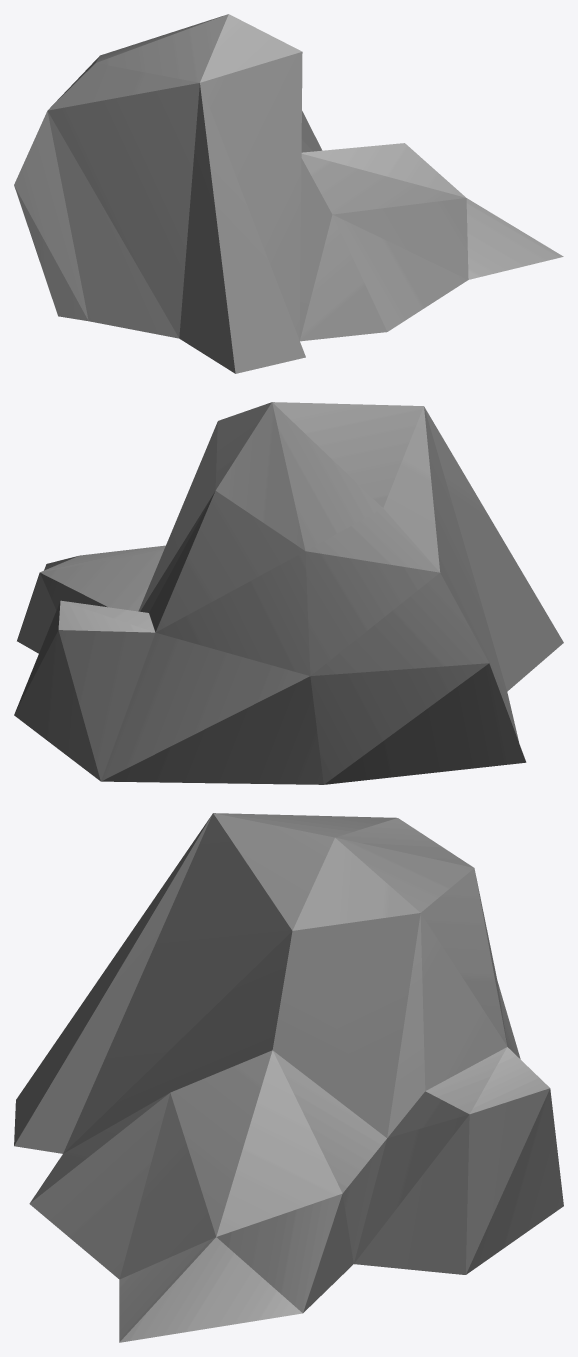
Rendered from GL-Rock-06-LOD3.fbx.
3 views of the same model, one above another, from view 1: azimuth 30°, elevation 25°; view 2: azimuth 150°, elevation 25°; view 3: azimuth 270°, elevation 25° (orthographic). The views are drawn at different scales.
Parts seen in each view (by area): view 1: GL_Rock_06; view 2: GL_Rock_06; view 3: GL_Rock_06.
Part boxes in pixels (<box>): GL_Rock_06: <box>14,14,563,373</box>; GL_Rock_06: <box>14,402,563,784</box>; GL_Rock_06: <box>14,813,563,1342</box>.
Bounding box in the file's own units: 9.41 × 4.96 × 7.36.
